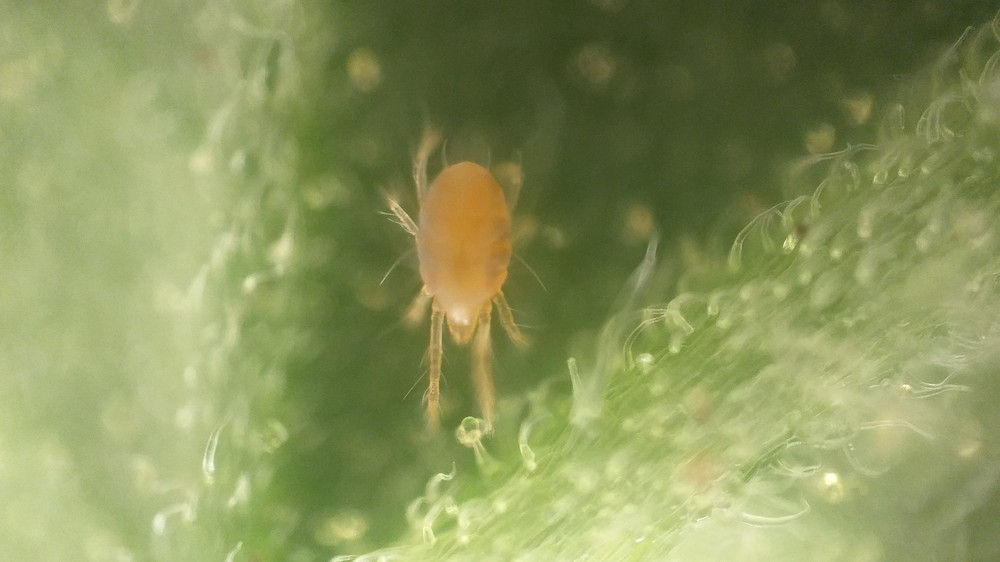Aracnido Rojo: (358, 116, 571, 445)
